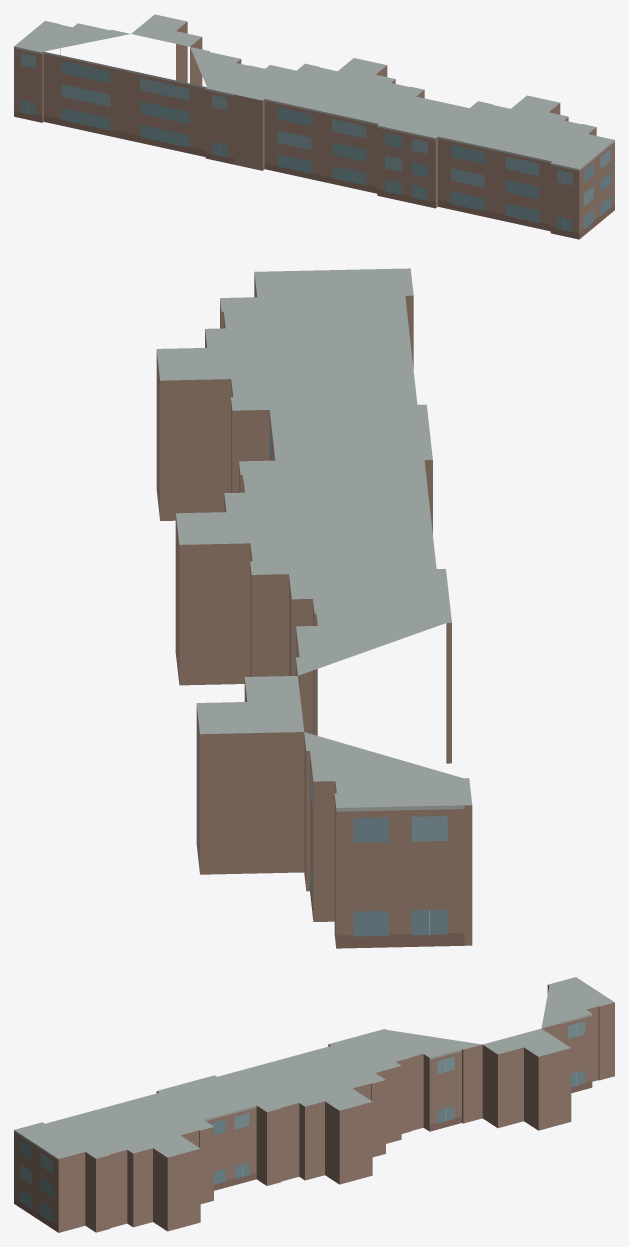
File: survey-upis-32732385.glb
3 views of the same model, one above another, from view 1: azimuth 30°, elevation 25°; view 2: azimuth 150°, elevation 25°; view 3: azimuth 270°, elevation 25° (orthographic). The views are drawn at different scales.
Parts seen in each view (by area): view 1: survey-upis-32732385.tmp; view 2: survey-upis-32732385.tmp; view 3: survey-upis-32732385.tmp.
Part boxes in pixels (x1,y1,x2,y2): survey-upis-32732385.tmp: (14, 14, 614, 239); survey-upis-32732385.tmp: (156, 268, 472, 948); survey-upis-32732385.tmp: (14, 977, 614, 1232).
Size of the model in its own units: 48.39 by 9.15 by 67.48.
